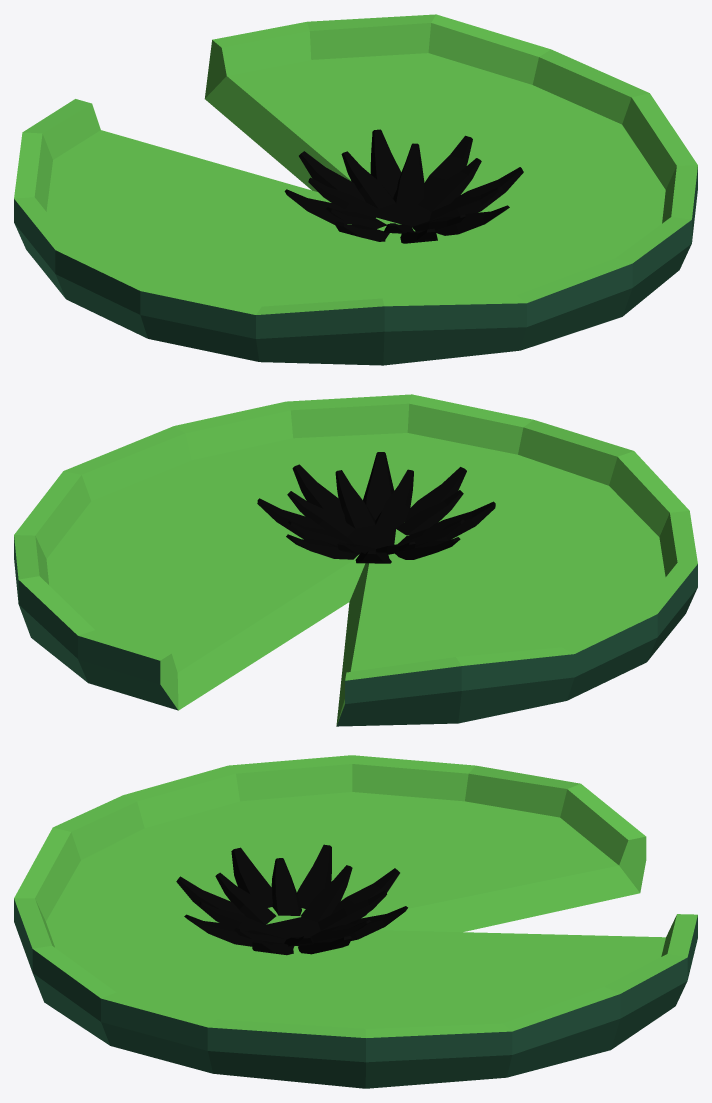
The model's file is Water Lily 06.fbx.
3 renders of one model, top to bottom at view 1: azimuth 30°, elevation 25°; view 2: azimuth 150°, elevation 25°; view 3: azimuth 270°, elevation 25°, orthographic. The views are drawn at different scales.
Visible parts, largest first — view 1: Water Lily 06; view 2: Water Lily 06; view 3: Water Lily 06.
Boxes of the visible parts, bbox=[...] form: Water Lily 06: bbox=[14, 14, 697, 365]; Water Lily 06: bbox=[14, 394, 697, 726]; Water Lily 06: bbox=[14, 755, 697, 1088].
Bounding box in the file's own units: 129 × 13.87 × 130.
